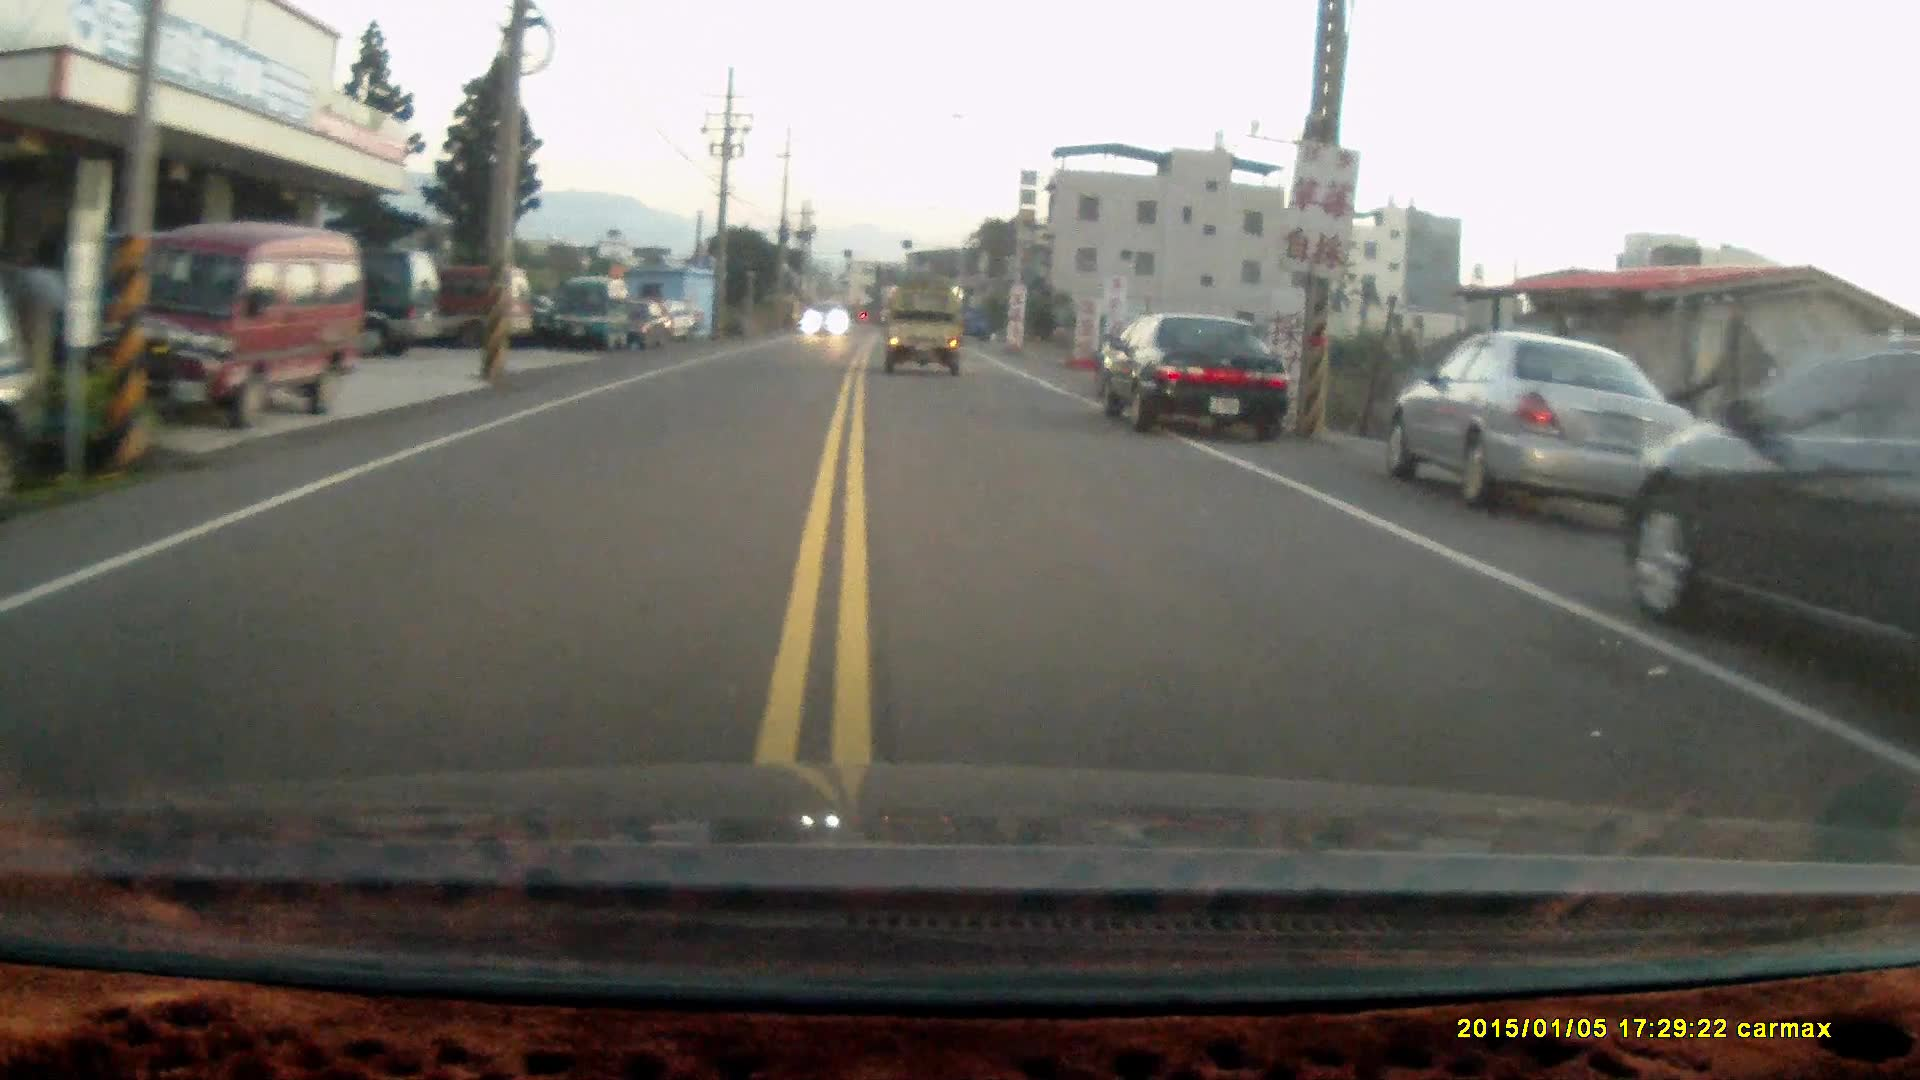vehicle: (1619, 339, 1920, 709), (1389, 334, 1700, 521), (71, 231, 357, 433), (1093, 311, 1291, 443), (239, 248, 448, 361), (371, 269, 539, 351), (1, 260, 49, 512), (880, 291, 967, 384), (553, 278, 632, 357)
